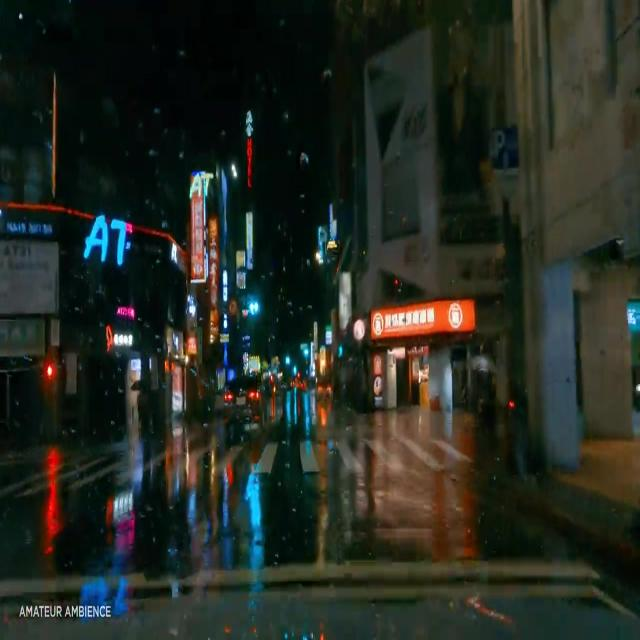Car: (222, 374, 267, 433)
